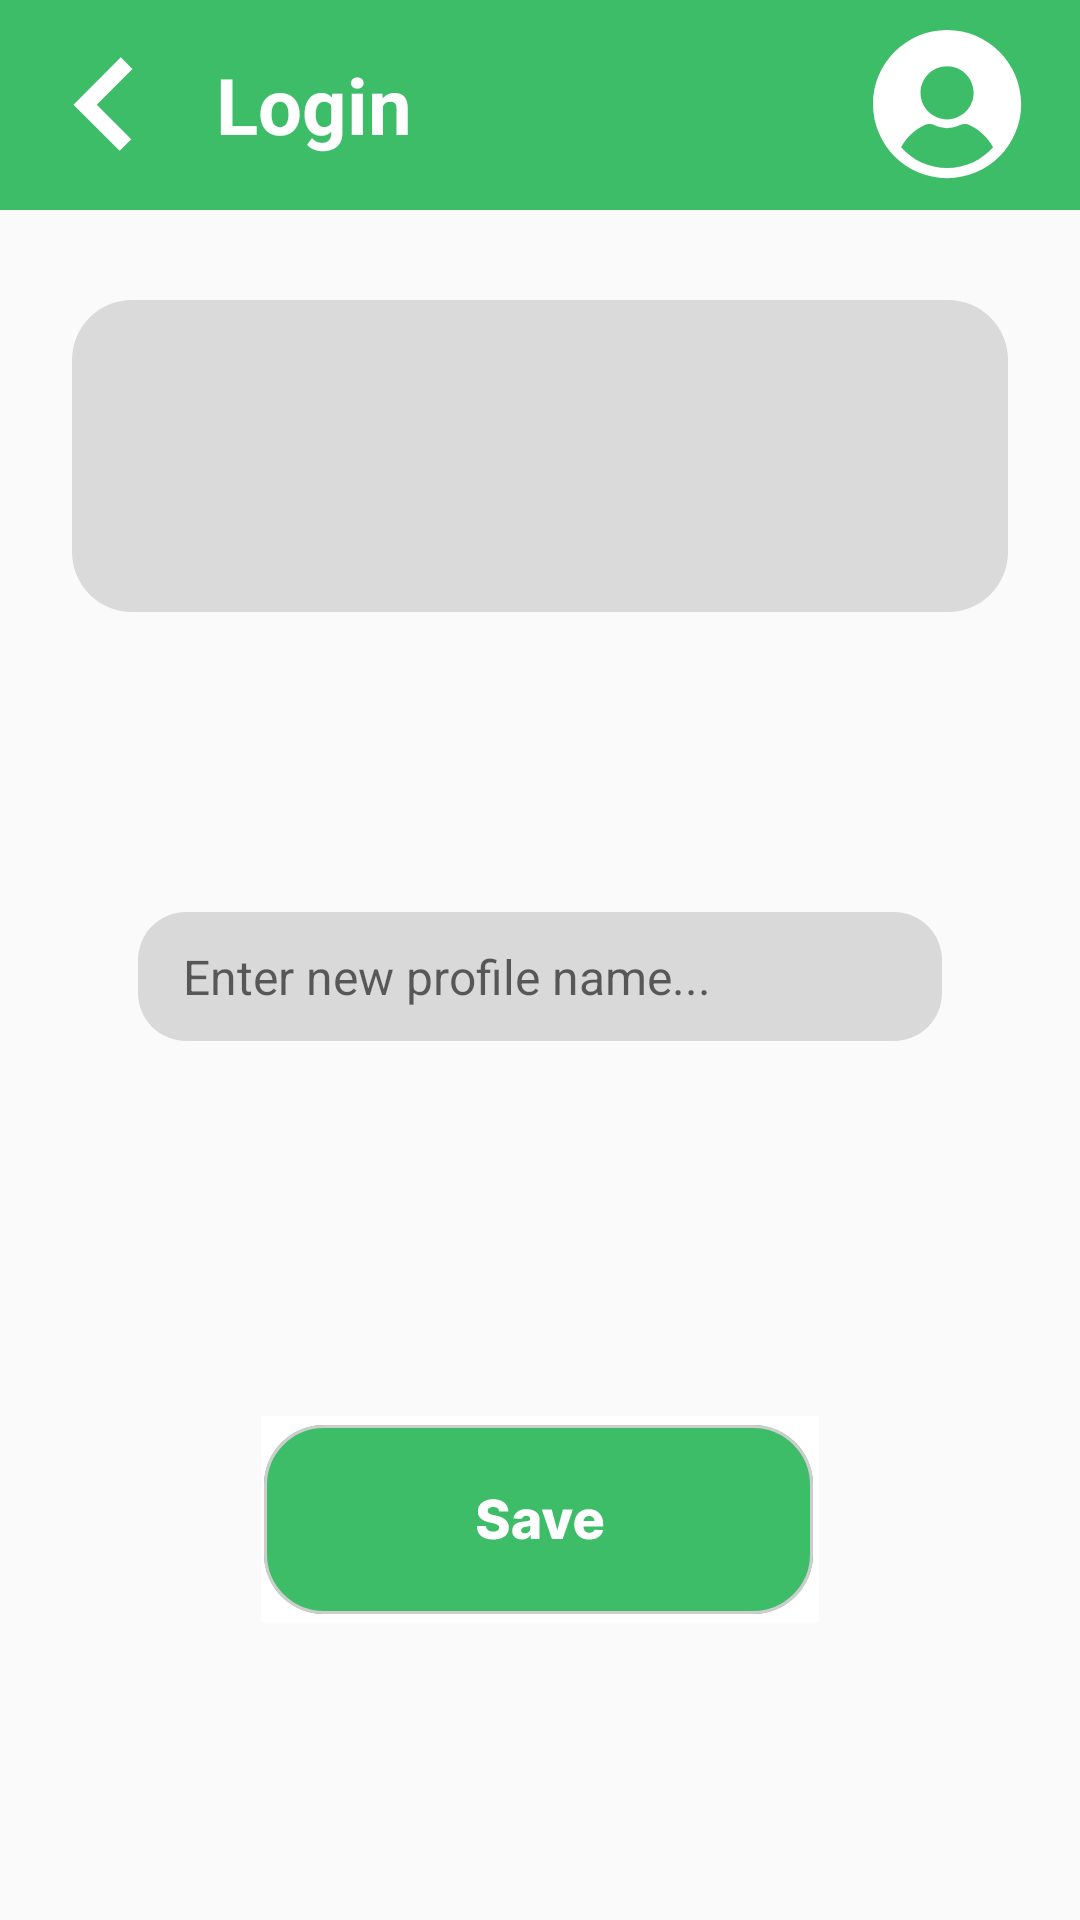

Icon click points for this 1080 x 1920 phone screenshot, format [x,y]:
back: [102,104]
